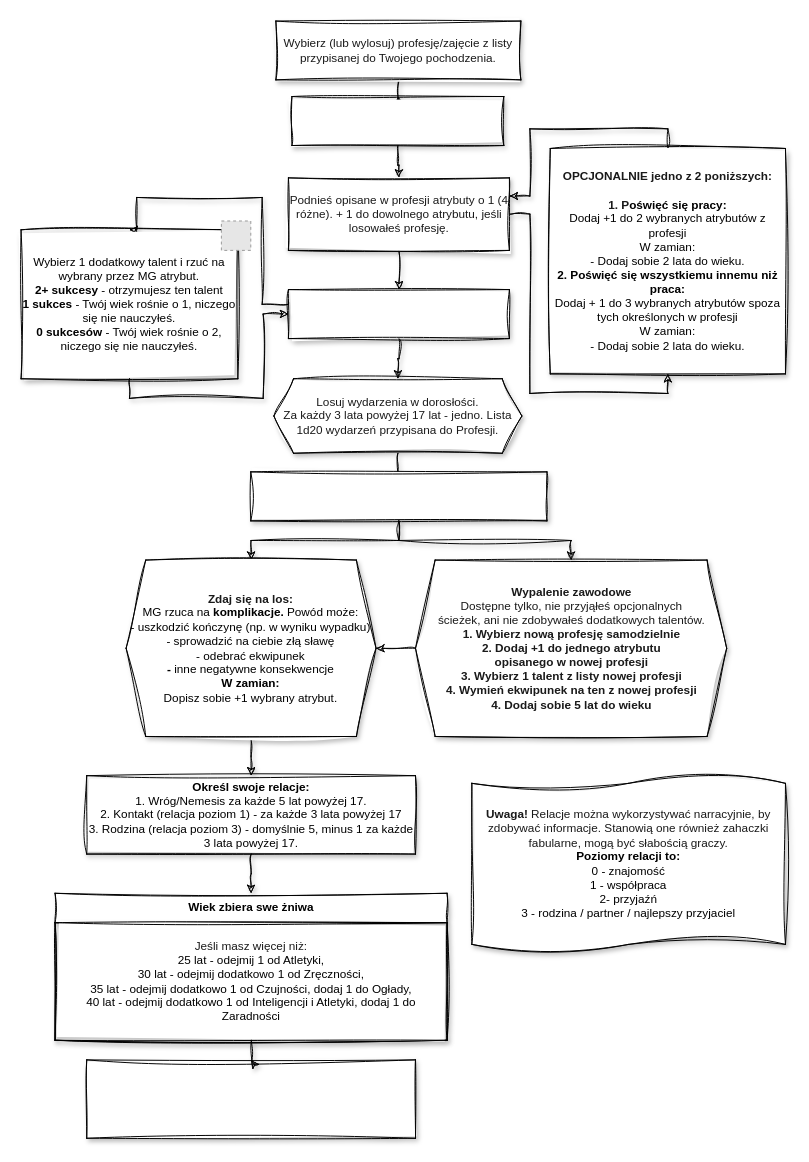
The diagram is 809 pixels wide and 1162 high, and some of its shapes have lost their labels. Grey dashed boxes stand in for pictures. Each missing label, with the centre of its shape:
Dobierz ekwipunek postaci zgodnie z profesją i pochodzeniem.: point (398, 122)
Określ dlaczego na jakiś czas bohater zrezygnował z tej profesji - 2 opcje:: point (399, 497)
Wybierz 1 talent z dostępnej listy profesji: point (399, 315)
Wybierz kolejno: 1. Swój kluczowy przedmiot 2. Swoje przekonania 3. Swoje nawyki: point (251, 1100)
